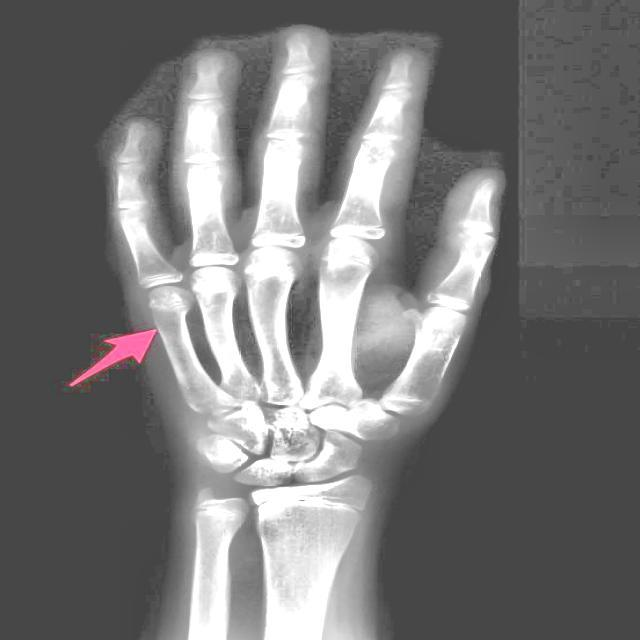fracture: (244, 256, 306, 282), (190, 274, 240, 296), (148, 292, 192, 312), (456, 230, 478, 260)
